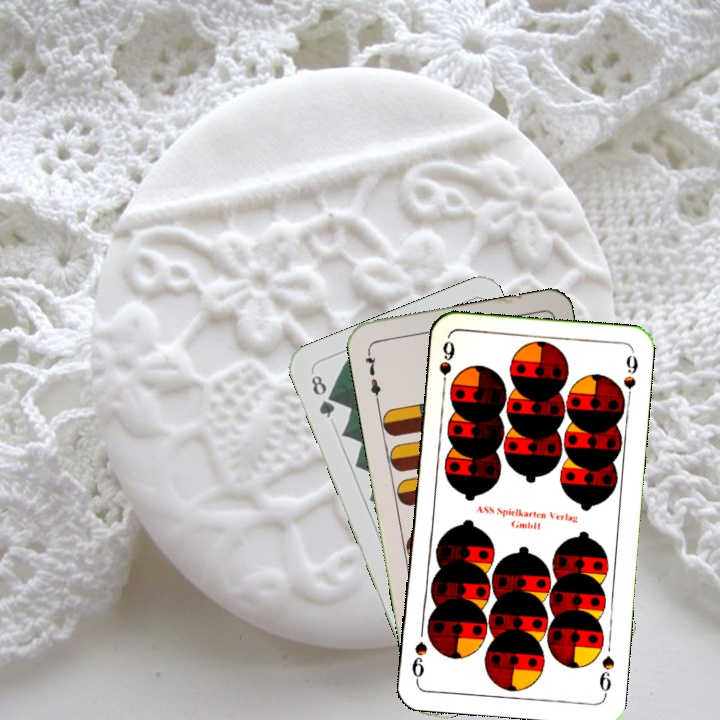E7: (360, 345, 383, 404)
G8: (306, 371, 338, 421)
S9: (435, 337, 458, 395), (595, 651, 617, 699)
